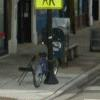Bicycle: (30, 48, 59, 87)
